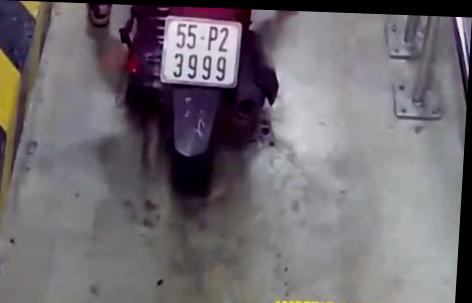License_Plate: (154, 12, 250, 93)
